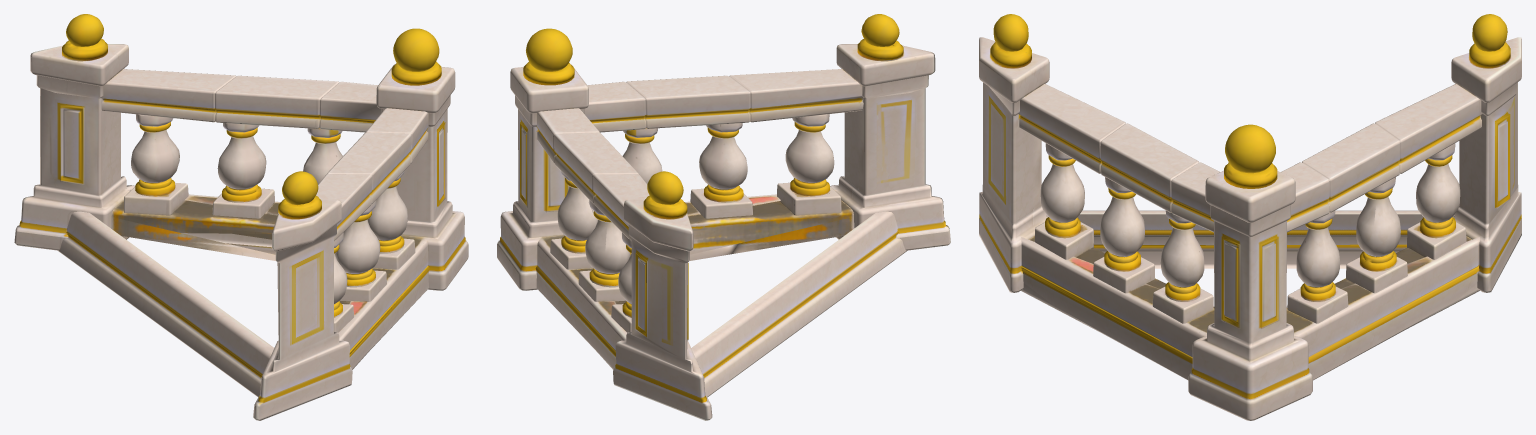
The model's file is HaloVar4_Balustrade_C_SM_tex4k_pbr_src.fbx.
3 renders of one model, left to right at view 1: azimuth 30°, elevation 25°; view 2: azimuth 150°, elevation 25°; view 3: azimuth 270°, elevation 25°, orthographic. The views are drawn at different scales.
Parts seen in each view (by area): view 1: d1490426_ff1a_4dae_ada4_ac0069ecc34c; view 2: d1490426_ff1a_4dae_ada4_ac0069ecc34c; view 3: d1490426_ff1a_4dae_ada4_ac0069ecc34c.
Part boxes in pixels (bbox=[...]): d1490426_ff1a_4dae_ada4_ac0069ecc34c: bbox=[14, 14, 468, 420]; d1490426_ff1a_4dae_ada4_ac0069ecc34c: bbox=[497, 14, 950, 420]; d1490426_ff1a_4dae_ada4_ac0069ecc34c: bbox=[979, 14, 1521, 420].
Bounding box in the file's own units: 0.7876 × 0.5425 × 0.9995.
1 material, 1 textured.
